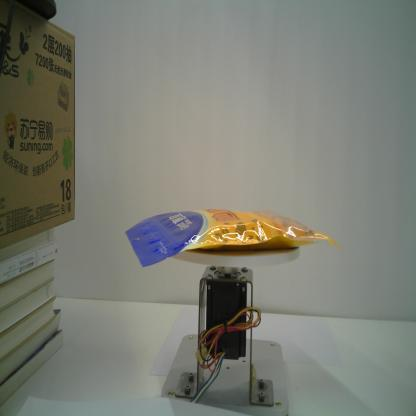Dried Fruit: (123, 206, 341, 269)
